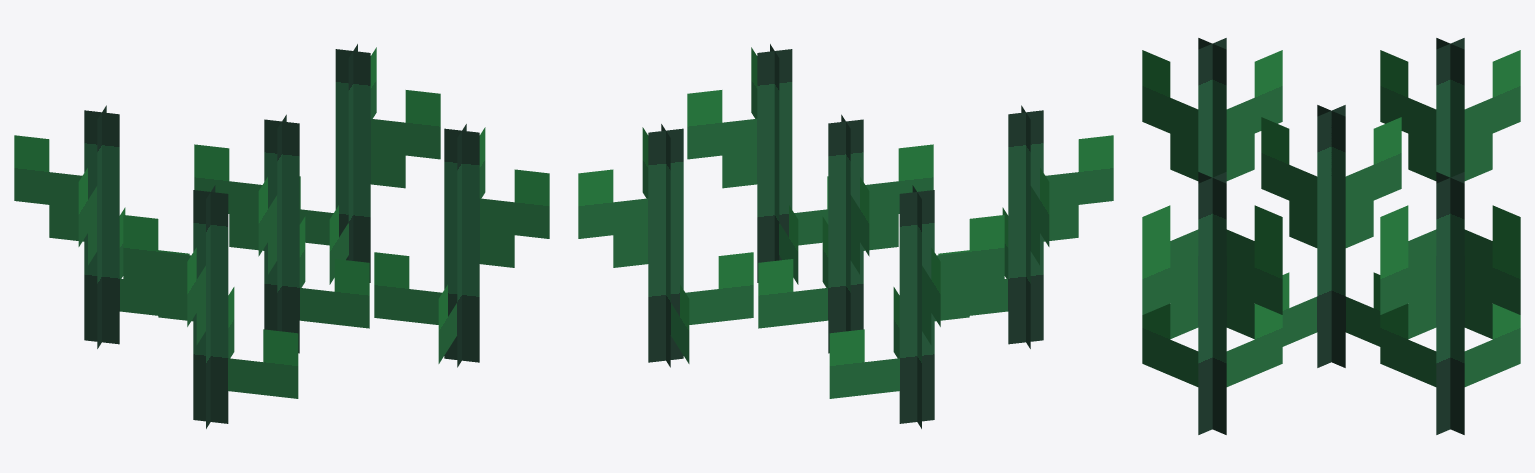
Rendered from wheat-stage1.gltf.
The picture shows the model from 3 angles, left to right: view 1: azimuth 30°, elevation 25°; view 2: azimuth 150°, elevation 25°; view 3: azimuth 270°, elevation 25°; orthographic projection. The views are drawn at different scales.
Parts seen in each view (by area): view 1: cube (×10); view 2: cube (×10); view 3: cube (×10).
Boxes of the visible parts, x1,y1,x2,y2 form: cube (×10): (14, 44, 549, 428); cube (×10): (578, 44, 1113, 428); cube (×10): (1142, 38, 1520, 434).
Bounding box in the file's own units: 0.721 × 0.4375 × 0.596.
1 material, 1 textured.
